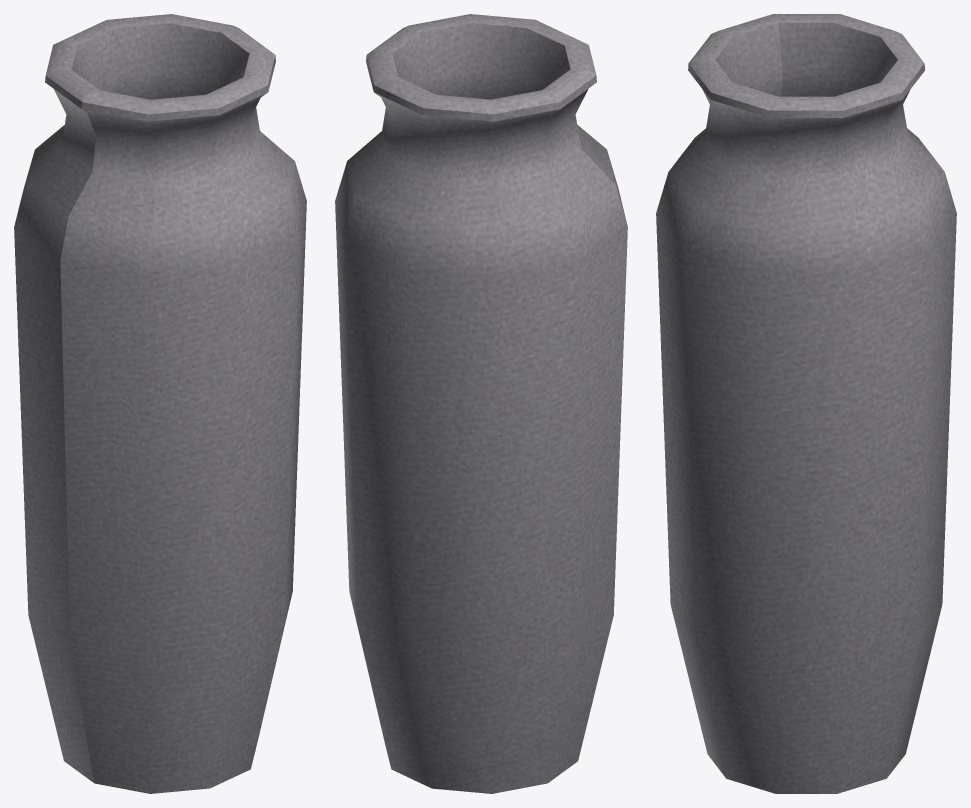
The model's file is frl_apartment_vase_02.glb.
The picture shows the model from 3 angles, left to right: view 1: azimuth 30°, elevation 25°; view 2: azimuth 150°, elevation 25°; view 3: azimuth 270°, elevation 25°; orthographic projection.
Parts seen in each view (by area): view 1: frl_apartment_vase_02; view 2: frl_apartment_vase_02; view 3: frl_apartment_vase_02.
Part boxes in pixels (x1,y1,x2,y2): frl_apartment_vase_02: (14,14,306,793); frl_apartment_vase_02: (335,14,627,793); frl_apartment_vase_02: (656,14,956,793).
Size of the model in its own units: 0.0929 by 0.2495 by 0.0977.
1 material, 1 textured.
